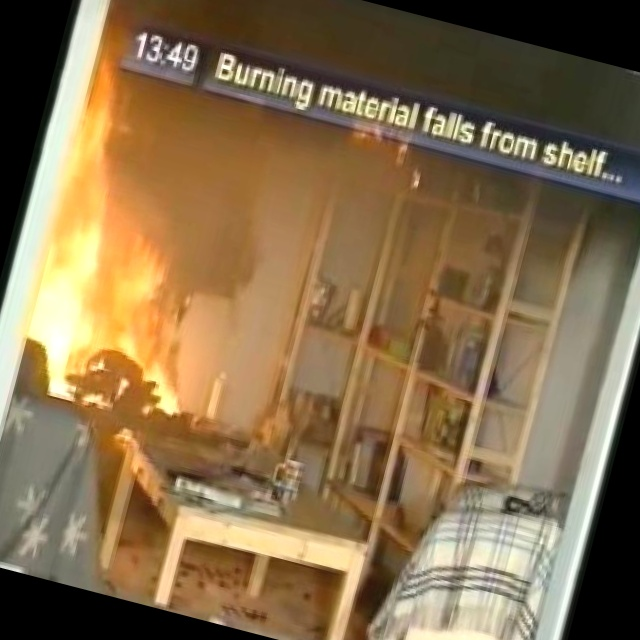fire: (23, 72, 222, 368)
